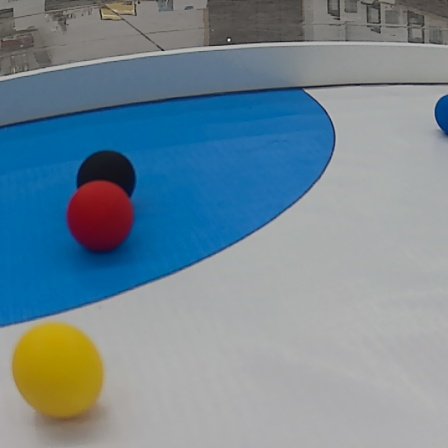black: (73, 149, 139, 205)
blue_base: (1, 86, 336, 329)
red: (68, 179, 135, 252)
yellow: (10, 322, 105, 421)
